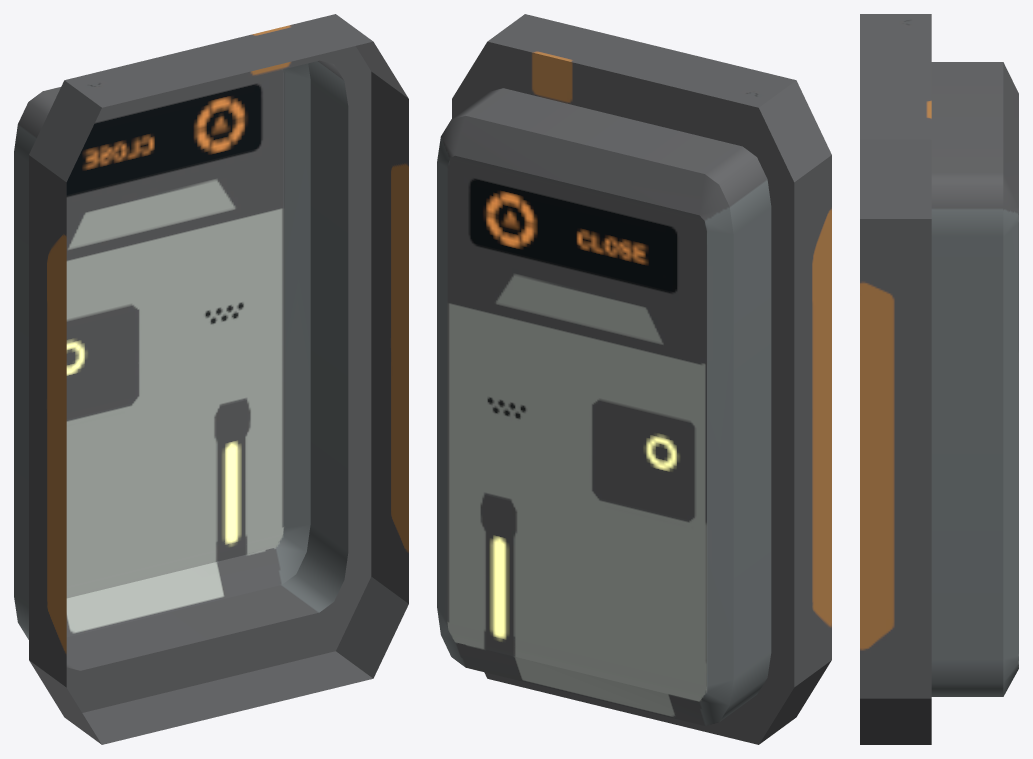
Rendered from Wall_Ornament__2.fbx.
3 views of the same model, side by side, from view 1: azimuth 30°, elevation 25°; view 2: azimuth 150°, elevation 25°; view 3: azimuth 270°, elevation 25° (orthographic). The views are drawn at different scales.
Parts seen in each view (by area): view 1: Wall_Ornament; view 2: Wall_Ornament; view 3: Wall_Ornament.
Boxes of the visible parts, box(x1,y1,x2,y2) form: Wall_Ornament: box(14, 14, 408, 744); Wall_Ornament: box(437, 14, 831, 744); Wall_Ornament: box(860, 14, 1018, 744).
Size of the model in its own units: 1.32 by 2.35 by 0.5592.
Materials: 1 (1 with a texture image).
